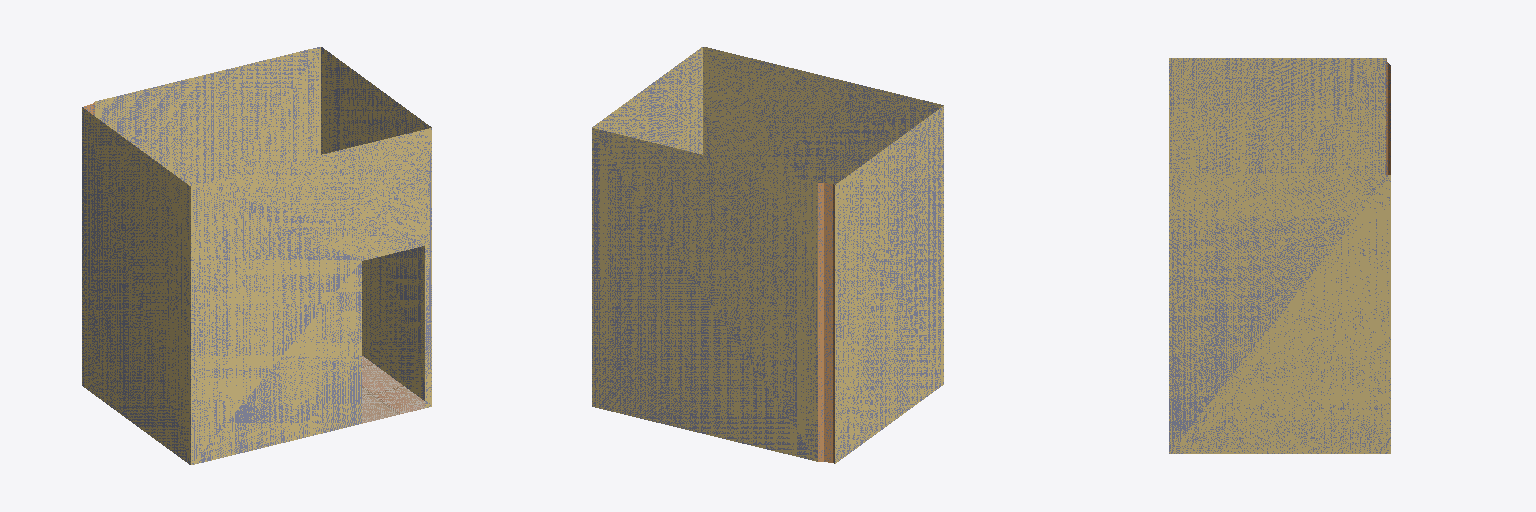
3 renders of one model, left to right at view 1: azimuth 30°, elevation 25°; view 2: azimuth 150°, elevation 25°; view 3: azimuth 270°, elevation 25°, orthographic.
Parts seen in each view (by area): view 1: Mesh1 DES015 Model; view 2: Mesh1 DES015 Model; view 3: Mesh1 DES015 Model.
Boxes of the visible parts, x1,y1,x2,y2 form: Mesh1 DES015 Model: [82, 47, 431, 464]; Mesh1 DES015 Model: [592, 47, 943, 463]; Mesh1 DES015 Model: [1169, 58, 1390, 453].
Size of the model in its own units: 3.26 by 3.6 by 2.6.
Materials: 5 (1 with a texture image).